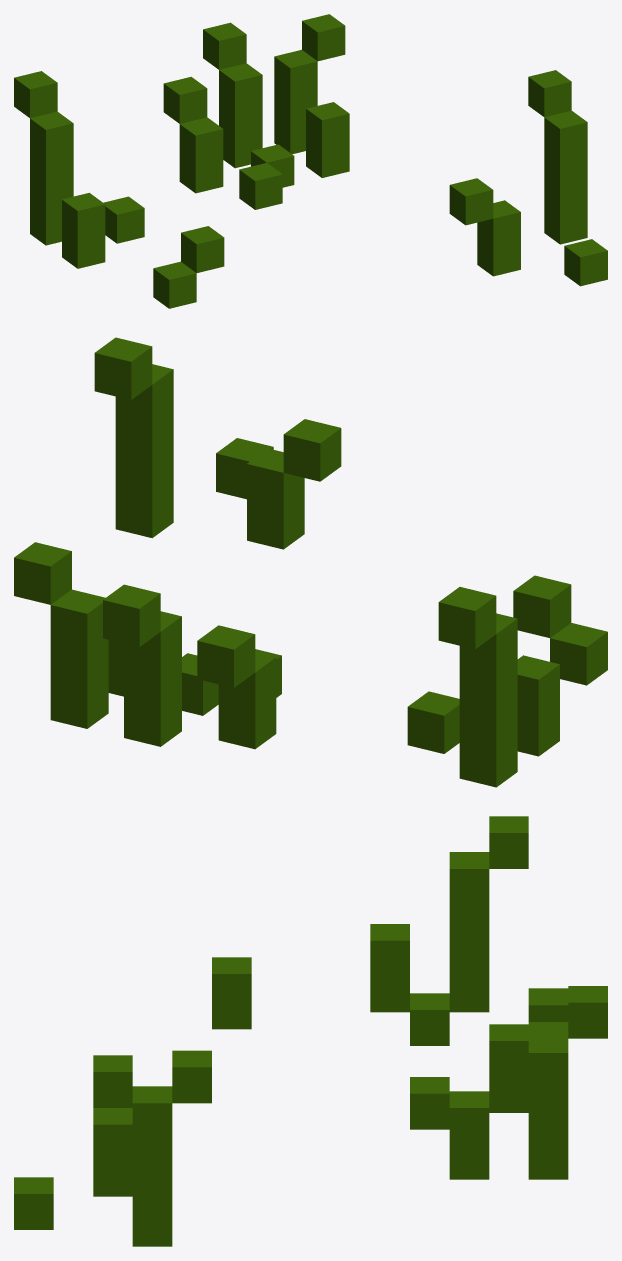
File: gRAMA.obj
3 views of the same model, one above another, from view 1: azimuth 30°, elevation 25°; view 2: azimuth 150°, elevation 25°; view 3: azimuth 270°, elevation 25° (orthographic). The views are drawn at different scales.
Visible parts, largest first — view 1: gRAMA; view 2: gRAMA; view 3: gRAMA.
Boxes of the visible parts, x1,y1,x2,y2 form: gRAMA: (14, 14, 607, 308); gRAMA: (14, 337, 607, 787); gRAMA: (14, 816, 607, 1246).
Size of the model in its own units: 15 by 5 by 15.
Materials: 1 (1 with a texture image).
